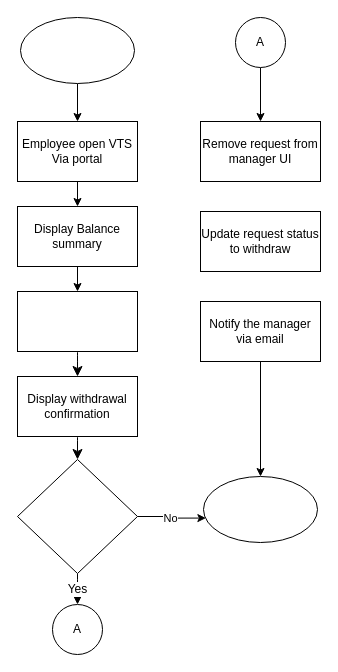
This 338x672 diagram has some shape labels left out. Each missing label, with the box of its shape:
End: (202, 476, 318, 542)
Is withdrawal confirmed: (16, 458, 138, 574)
Select a pending vacation request: (16, 290, 138, 352)
Start: (20, 16, 134, 84)
